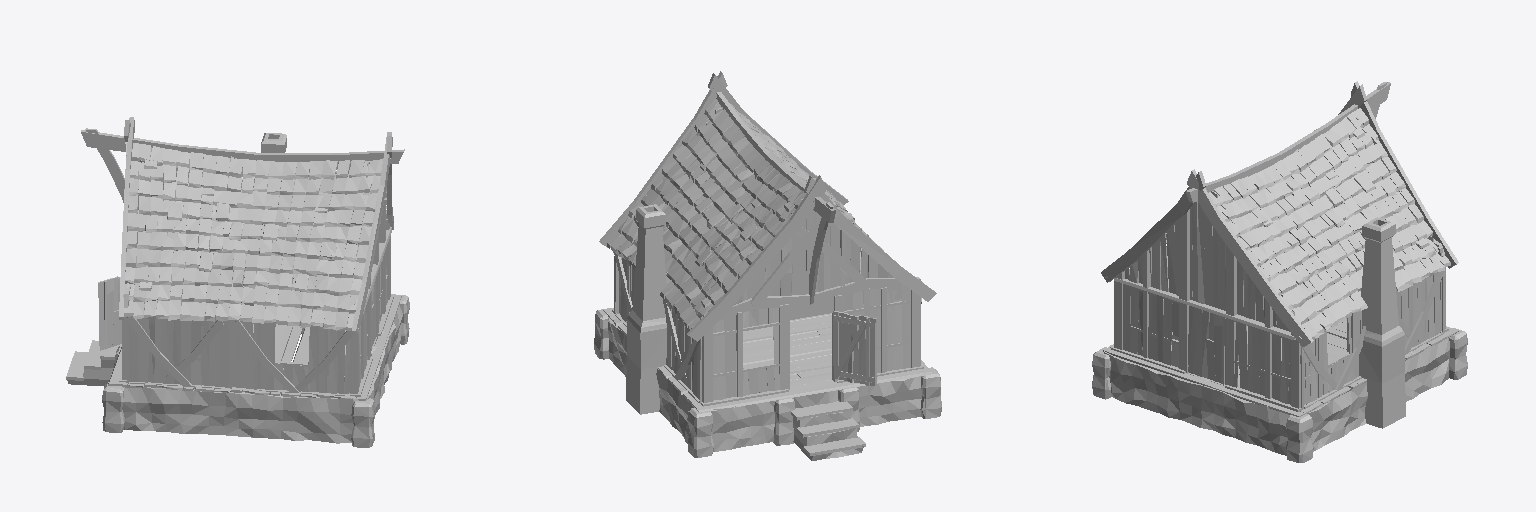
File: puente22.obj
3 views of the same model, side by side, from view 1: azimuth 30°, elevation 25°; view 2: azimuth 150°, elevation 25°; view 3: azimuth 270°, elevation 25° (orthographic).
Visible parts, largest first — view 1: Cube.016_Cube.032; view 2: Cube.016_Cube.032; view 3: Cube.016_Cube.032.
Part boxes in pixels (x1,y1,x2,y2): Cube.016_Cube.032: (66,117,409,447); Cube.016_Cube.032: (594,71,941,460); Cube.016_Cube.032: (1092,81,1467,462).
Size of the model in its own units: 26.72 by 20.36 by 26.58.